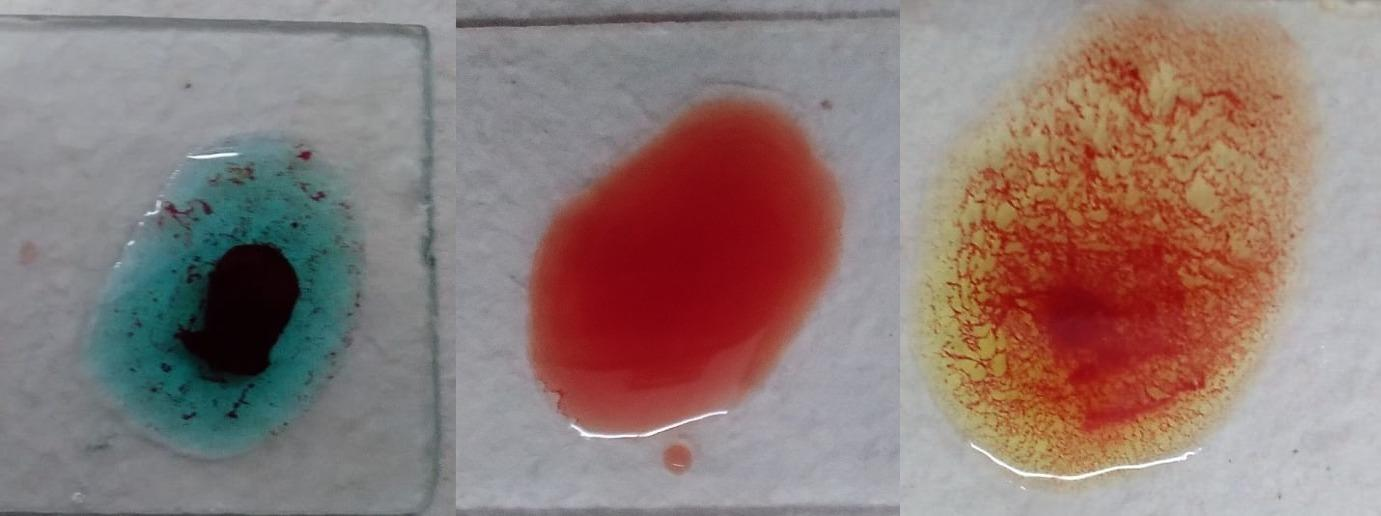A: (100, 143, 369, 459)
B: (927, 33, 1292, 475)
